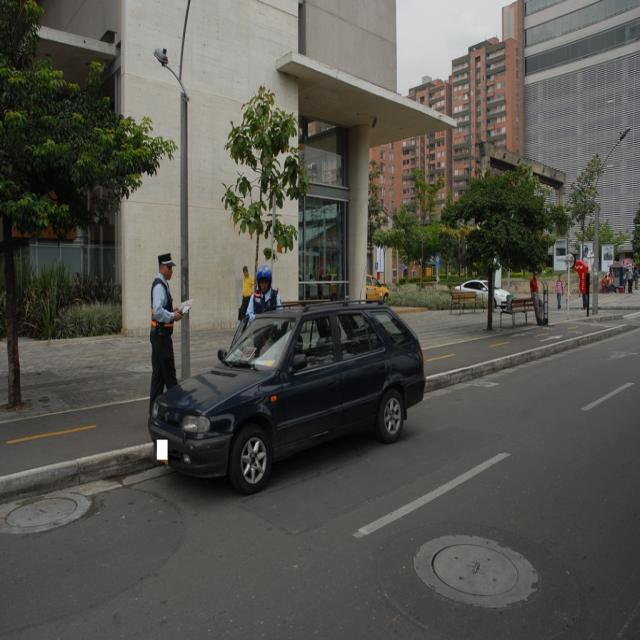Passenger Car: (150, 305, 426, 495)
Pedestrians: (148, 251, 180, 383)
